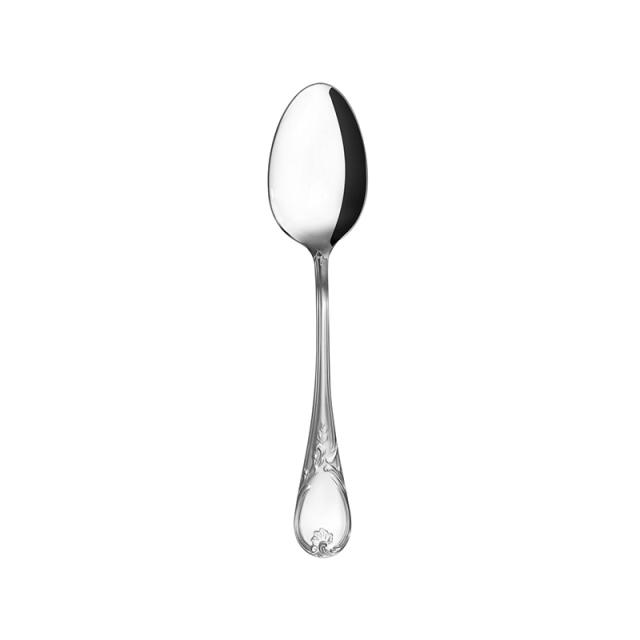spoon: (242, 66, 388, 570)
